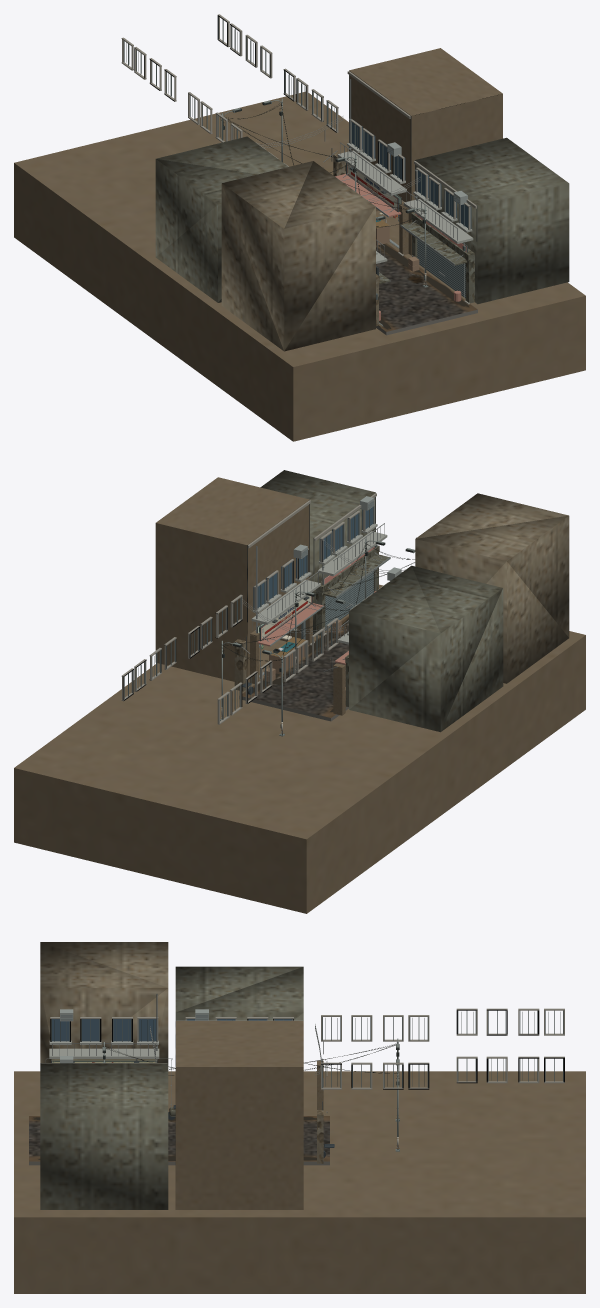
Rendered from contact-frontage.png.glb.
3 renders of one model, top to bottom at view 1: azimuth 30°, elevation 25°; view 2: azimuth 150°, elevation 25°; view 3: azimuth 270°, elevation 25°, orthographic. The views are drawn at different scales.
Parts seen in each view (by area): view 1: Runtime / REV15Z / Podium / supported market base, Runtime / REV15Z / PILOT / Building / -1 / 0, Runtime / REV15Z / WORLD / Building / 1 / 0, Runtime / REV15Z / Building / 1 / 1, Runtime / REV15Z / PILOT / Building / -1 / 1, Runtime / REV15Z / Lane flat / 6.8m clear / asphalt replacem, Runtime / REV15Z / WORLD static / upper street 1 / mineral c, Runtime / REV15Z / WORLD static / counter finish -1 -25.0 / , Runtime / REV15Z / WORLD static / upper street -1 / mineral , Runtime / REV15Z / WORLD / Cantilever balcony.004, Runtime / REV15Z / Shutter slat.018, Runtime / REV15Z / WORLD / Cantilever balcony.005 (+10 smaller); view 2: Runtime / REV15Z / Podium / supported market base, Runtime / REV15Z / Building / 1 / 1, Runtime / REV15Z / PILOT / Building / -1 / 1, Runtime / REV15Z / PILOT / Building / -1 / 0, Runtime / REV15Z / WORLD / Building / 1 / 0, Runtime / REV15Z / Lane flat / 6.8m clear / asphalt replacem, Runtime / REV15Z / WORLD static / upper street 1 / mineral c, Runtime / REV15Z / WORLD static / counter finish -1 -25.0 / , Runtime / REV15Z / WORLD static / upper street -1 / mineral , Runtime / REV15Z / WORLD / Cantilever balcony.004, Runtime / REV15Z / WORLD / Cantilever balcony.005, Runtime / REV15Z / Shutter slat.018 (+10 smaller); view 3: Runtime / REV15Z / Podium / supported market base, Runtime / REV15Z / Building / 1 / 1, Runtime / REV15Z / WORLD / Building / 1 / 0, Runtime / REV15Z / PILOT / Building / -1 / 0, Runtime / REV15Z / PILOT / Building / -1 / 1, Runtime / REV15Z / WORLD static / upper street -1 / mineral , Runtime / REV15Z / Lane flat / 6.8m clear / asphalt replacem, Runtime / REV15Z / WORLD static / counter finish -1 -25.0 / , Runtime / REV15Z / WORLD static / upper street 1 / mineral c, Runtime / REV15Z / WORLD / Cantilever balcony, Runtime / REV15Z / WORLD / Window opening.001, Runtime / REV15Z / WORLD static / bay +1 Y-16 / blackened zi.
Part boxes in pixels (x1=…): Runtime / REV15Z / Podium / supported market base: x1=14, y1=91, x2=585, y2=441; Runtime / REV15Z / PILOT / Building / -1 / 0: x1=221, y1=161, x2=375, y2=351; Runtime / REV15Z / WORLD / Building / 1 / 0: x1=415, y1=137, x2=569, y2=304; Runtime / REV15Z / Building / 1 / 1: x1=349, y1=48, x2=502, y2=255; Runtime / REV15Z / PILOT / Building / -1 / 1: x1=155, y1=136, x2=288, y2=302; Runtime / REV15Z / Lane flat / 6.8m clear / asphalt replacem: x1=376, y1=243, x2=477, y2=335; Runtime / REV15Z / WORLD static / upper street 1 / mineral c: x1=217, y1=14, x2=470, y2=229; Runtime / REV15Z / WORLD static / counter finish -1 -25.0 / : x1=123, y1=16, x2=468, y2=229; Runtime / REV15Z / WORLD static / upper street -1 / mineral : x1=121, y1=37, x2=288, y2=166; Runtime / REV15Z / WORLD / Cantilever balcony.004: x1=389, y1=174, x2=473, y2=243; Runtime / REV15Z / Shutter slat.018: x1=417, y1=239, x2=465, y2=298; Runtime / REV15Z / WORLD / Cantilever balcony.005: x1=337, y1=143, x2=406, y2=195; Runtime / REV15Z / Podium / supported market base: x1=14, y1=584, x2=585, y2=913; Runtime / REV15Z / Building / 1 / 1: x1=155, y1=477, x2=309, y2=682; Runtime / REV15Z / PILOT / Building / -1 / 1: x1=349, y1=565, x2=503, y2=732; Runtime / REV15Z / PILOT / Building / -1 / 0: x1=415, y1=493, x2=569, y2=683; Runtime / REV15Z / WORLD / Building / 1 / 0: x1=260, y1=470, x2=375, y2=634; Runtime / REV15Z / Lane flat / 6.8m clear / asphalt replacem: x1=239, y1=616, x2=348, y2=721; Runtime / REV15Z / WORLD static / upper street 1 / mineral c: x1=121, y1=500, x2=374, y2=701; Runtime / REV15Z / WORLD static / counter finish -1 -25.0 / : x1=124, y1=506, x2=374, y2=719; Runtime / REV15Z / WORLD static / upper street -1 / mineral : x1=217, y1=571, x2=402, y2=724; Runtime / REV15Z / WORLD / Cantilever balcony.004: x1=295, y1=531, x2=387, y2=581; Runtime / REV15Z / WORLD / Cantilever balcony.005: x1=251, y1=579, x2=320, y2=624; Runtime / REV15Z / Shutter slat.018: x1=325, y1=571, x2=373, y2=630; Runtime / REV15Z / Podium / supported market base: x1=14, y1=1071, x2=585, y2=1293; Runtime / REV15Z / Building / 1 / 1: x1=175, y1=1021, x2=303, y2=1209; Runtime / REV15Z / WORLD / Building / 1 / 0: x1=40, y1=1063, x2=168, y2=1209; Runtime / REV15Z / PILOT / Building / -1 / 0: x1=40, y1=942, x2=168, y2=1062; Runtime / REV15Z / PILOT / Building / -1 / 1: x1=175, y1=966, x2=303, y2=1020; Runtime / REV15Z / WORLD static / upper street -1 / mineral : x1=50, y1=1008, x2=564, y2=1041; Runtime / REV15Z / Lane flat / 6.8m clear / asphalt replacem: x1=29, y1=1116, x2=329, y2=1165; Runtime / REV15Z / WORLD static / counter finish -1 -25.0 / : x1=51, y1=1010, x2=563, y2=1087; Runtime / REV15Z / WORLD static / upper street 1 / mineral c: x1=321, y1=1056, x2=564, y2=1089; Runtime / REV15Z / WORLD / Cantilever balcony: x1=49, y1=1040, x2=159, y2=1058; Runtime / REV15Z / WORLD / Window opening.001: x1=82, y1=1019, x2=195, y2=1041; Runtime / REV15Z / WORLD static / bay +1 Y-16 / blackened zi: x1=54, y1=1012, x2=560, y2=1086.
Bounding box in the file's own units: 23 × 16.5 × 38.
Materials: 85 (36 with a texture image).
